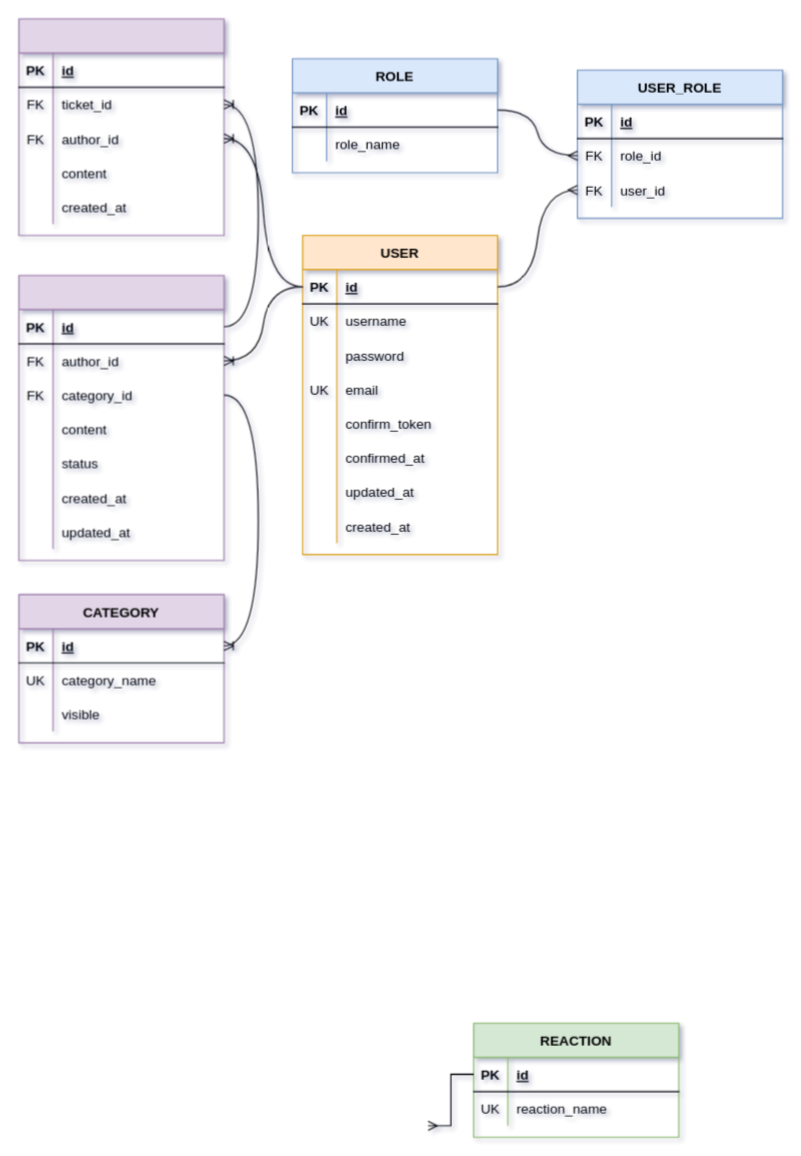
Some shapes in this 801 by 1156 pixel diagram are drawn without their labels. Here are the shapes that lost their labels. From the top down, the box of each, then its label:
(18, 18, 224, 235): TICKET COMMENTS
(18, 274, 224, 560): TICKET
